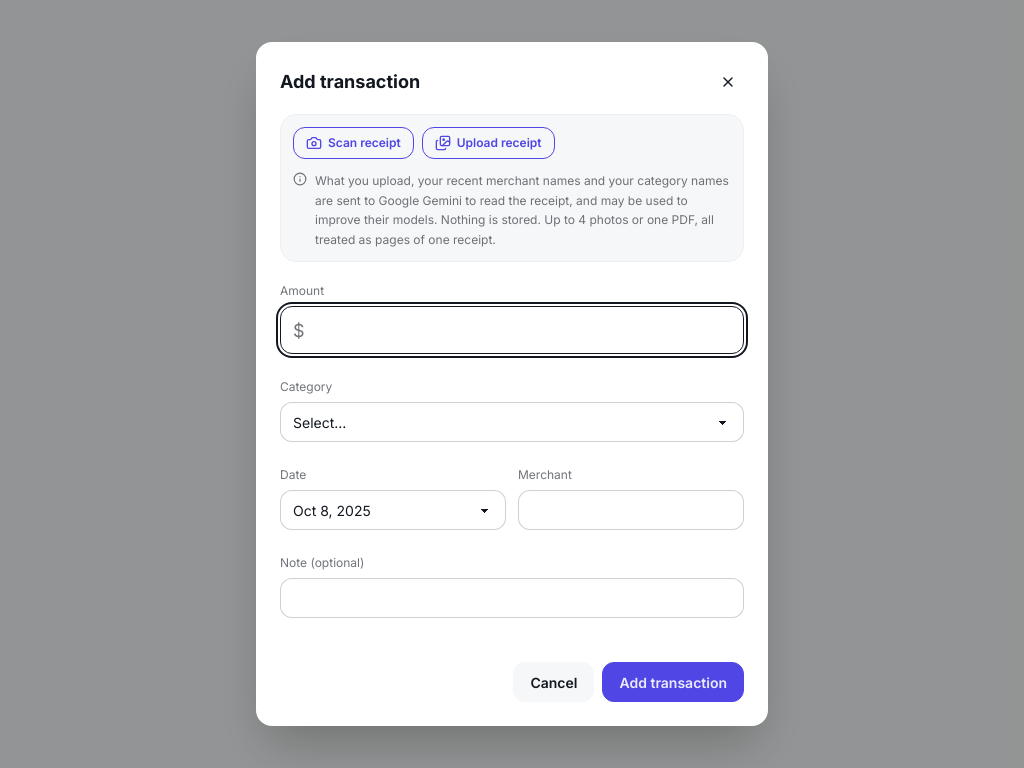
AC3: a missing required field › names only the field that is wrong
Type "24.00" into the field labelled "Amount" at (522, 330), box [313,307,731,353]
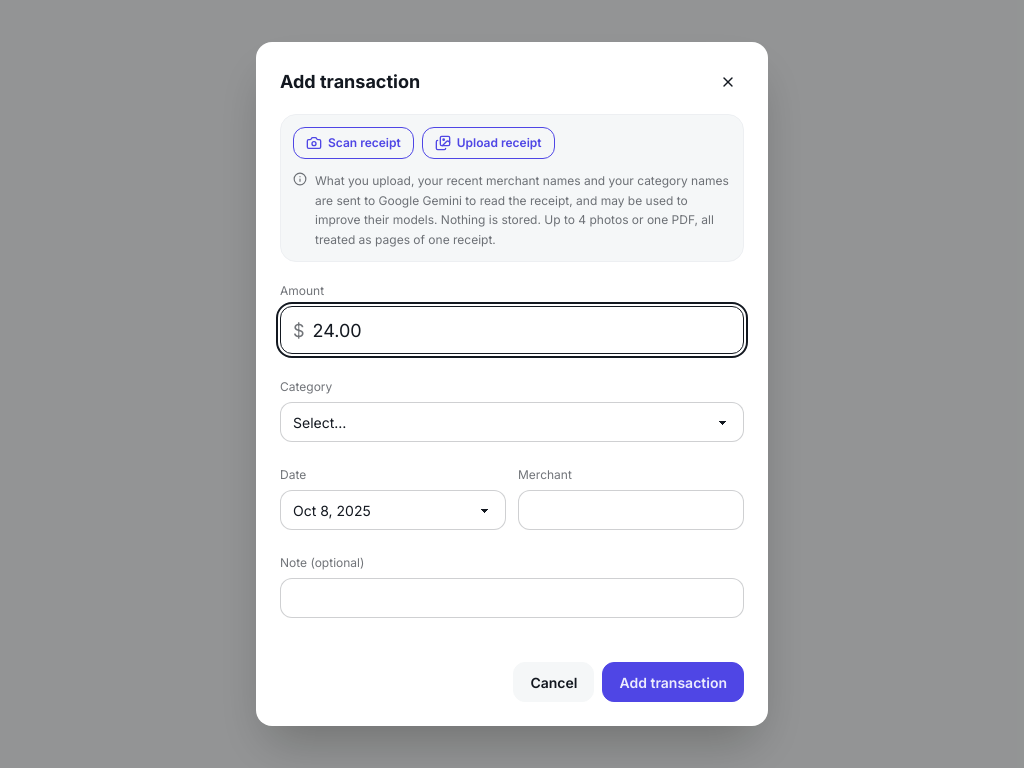
Select "Groceries" in the dropdown labelled "Category" at (512, 422), box [280,402,744,442]
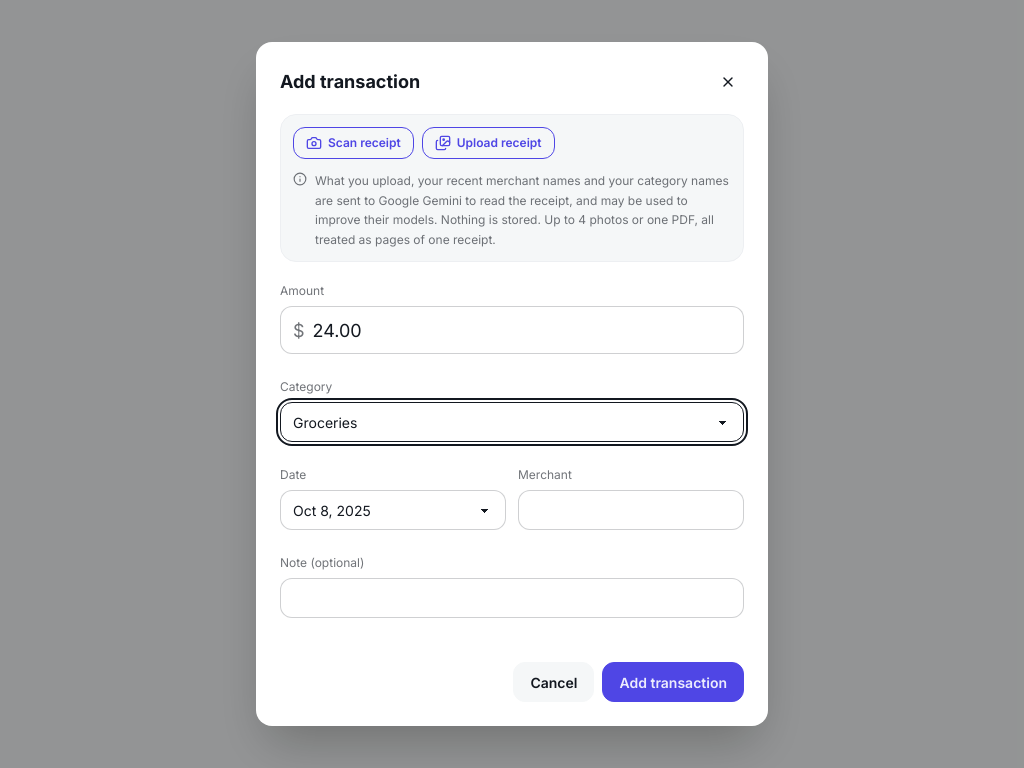
Type "Whole Foods" into the field labelled "Merchant" at (631, 510), box [518,490,744,530]
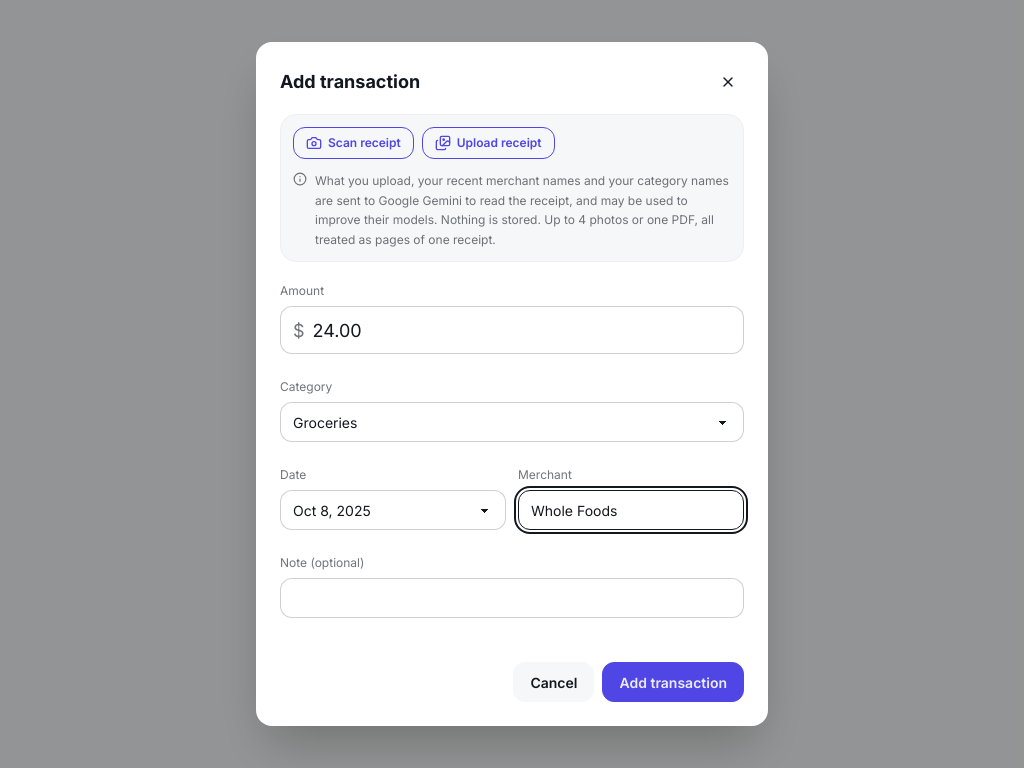
Clear the field labelled "Merchant" at (631, 510), box [518,490,744,530]
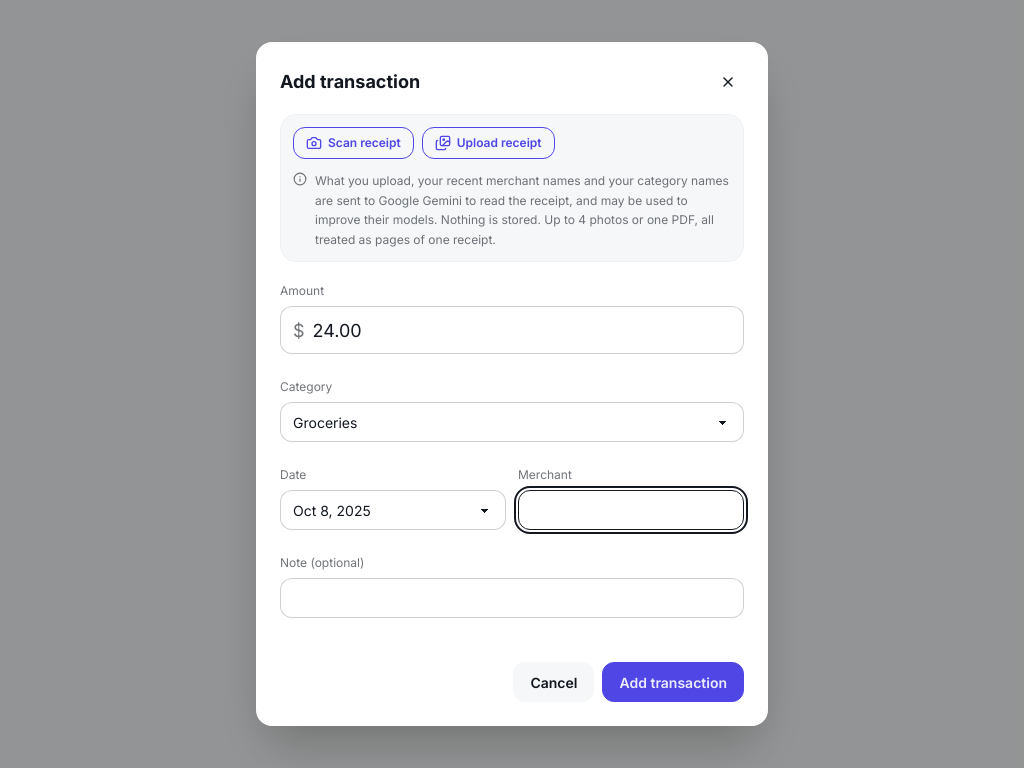
Click the button "Add transaction" at (673, 682), box [602,662,744,702]
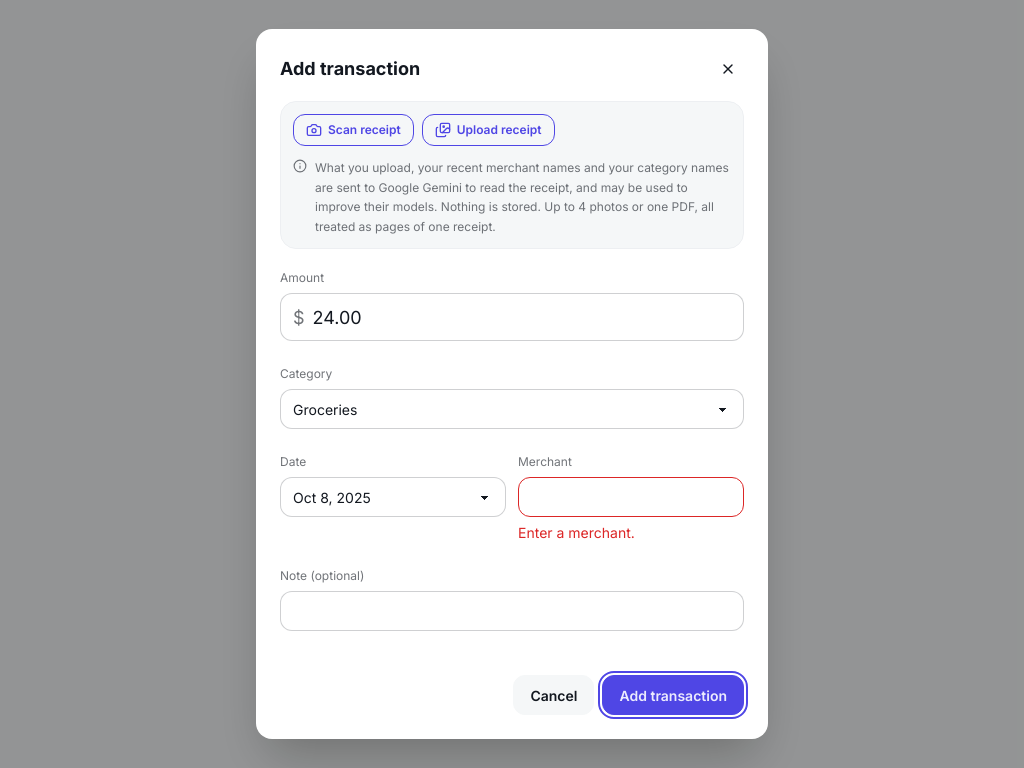
Check: the text "Enter a merchant." is shown, box [518,524,635,541]
